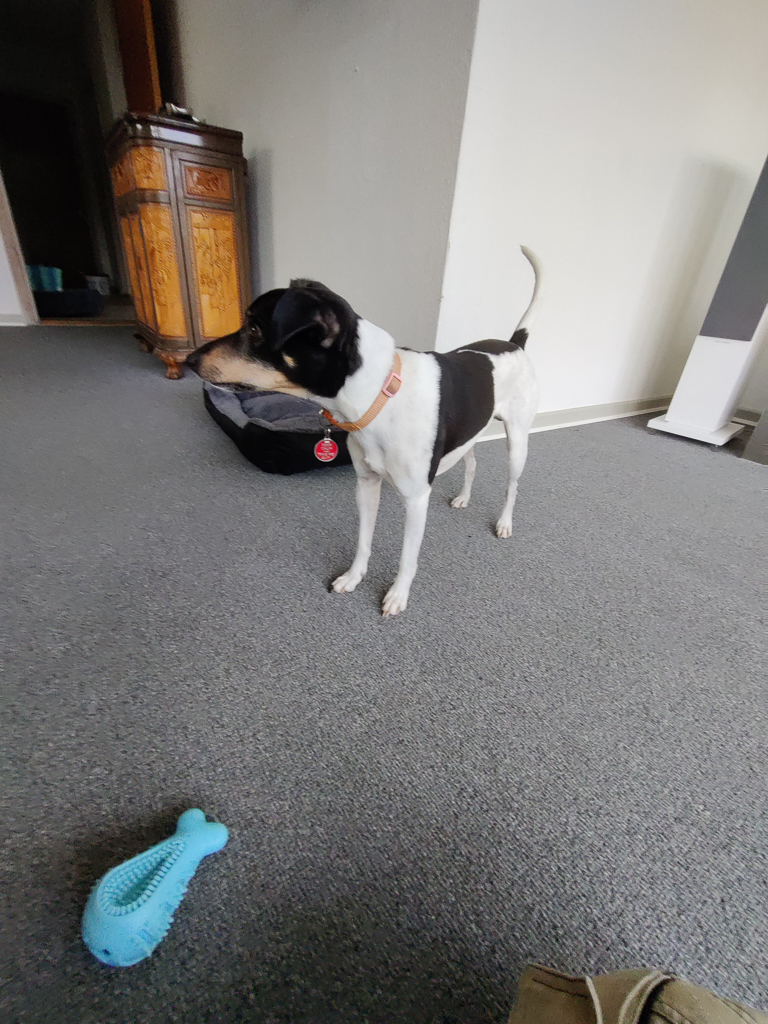Dog: (163, 208, 571, 655)
Humanoid: (469, 928, 768, 1024)
